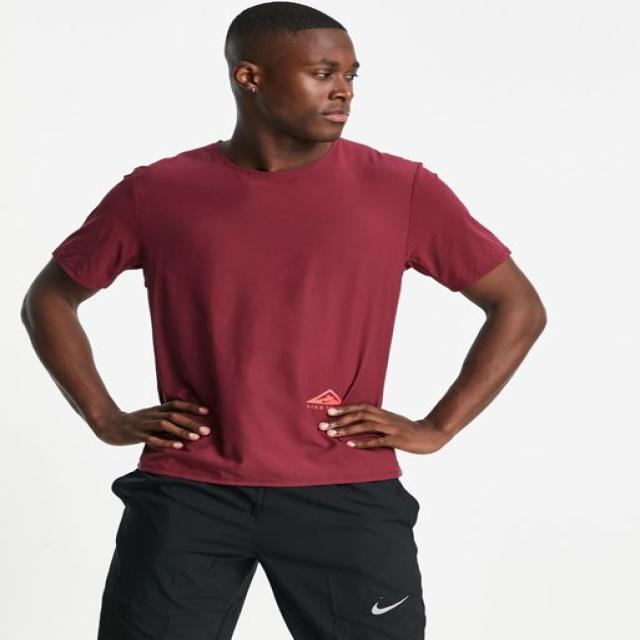tshirt: (50, 135, 511, 488)
